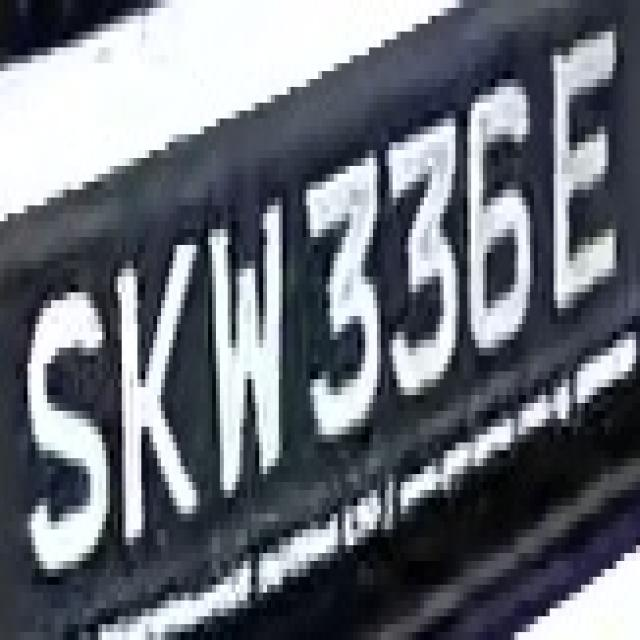3: (286, 142, 381, 474), (369, 111, 463, 403)
6: (459, 71, 550, 371)
E: (546, 16, 628, 340)
K: (114, 205, 204, 538)
S: (8, 268, 110, 592)
W: (192, 206, 310, 530)
